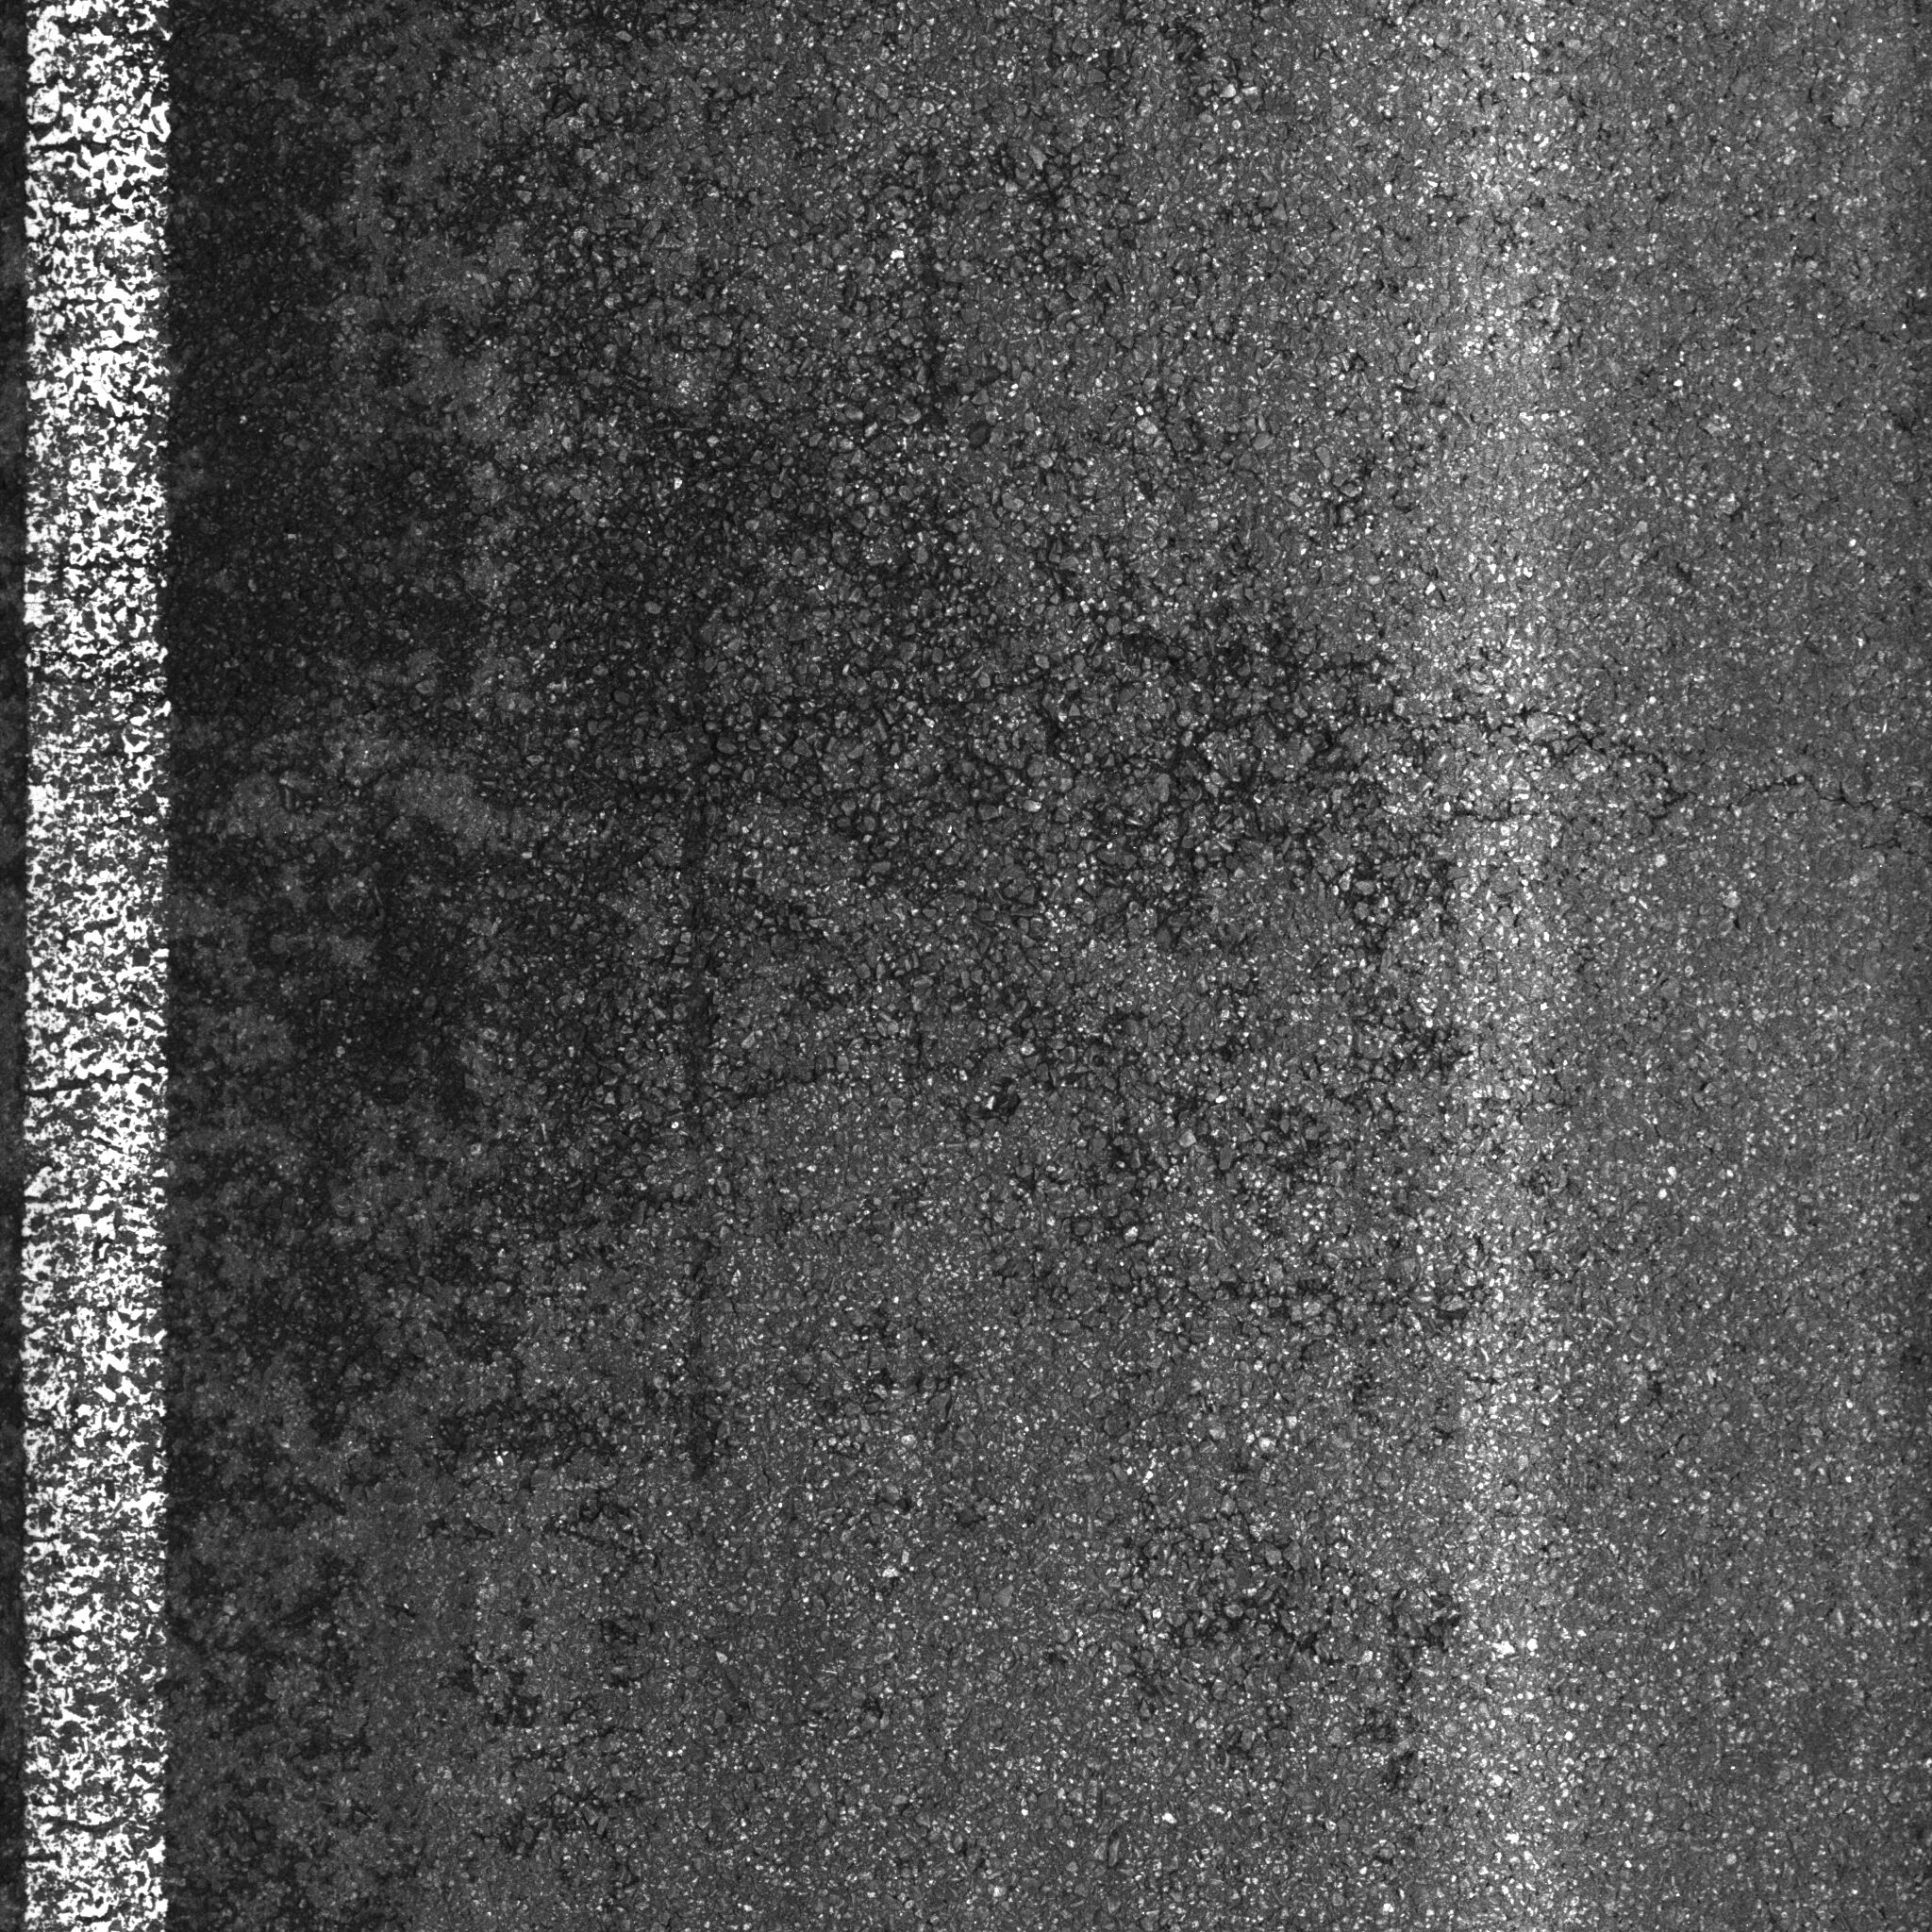transeverse: (1070, 596, 1932, 865)
